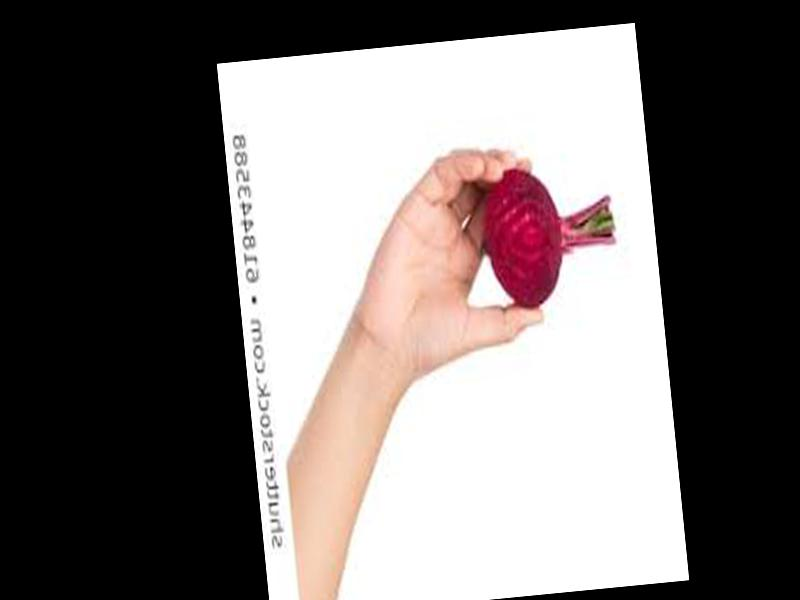Beet: (480, 156, 621, 310)
